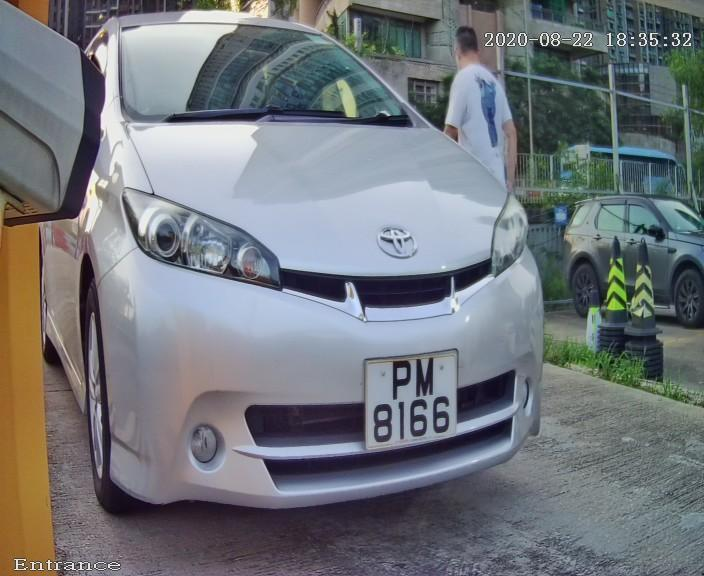Car: (32, 3, 595, 551)
License Plate: (356, 340, 466, 463)
